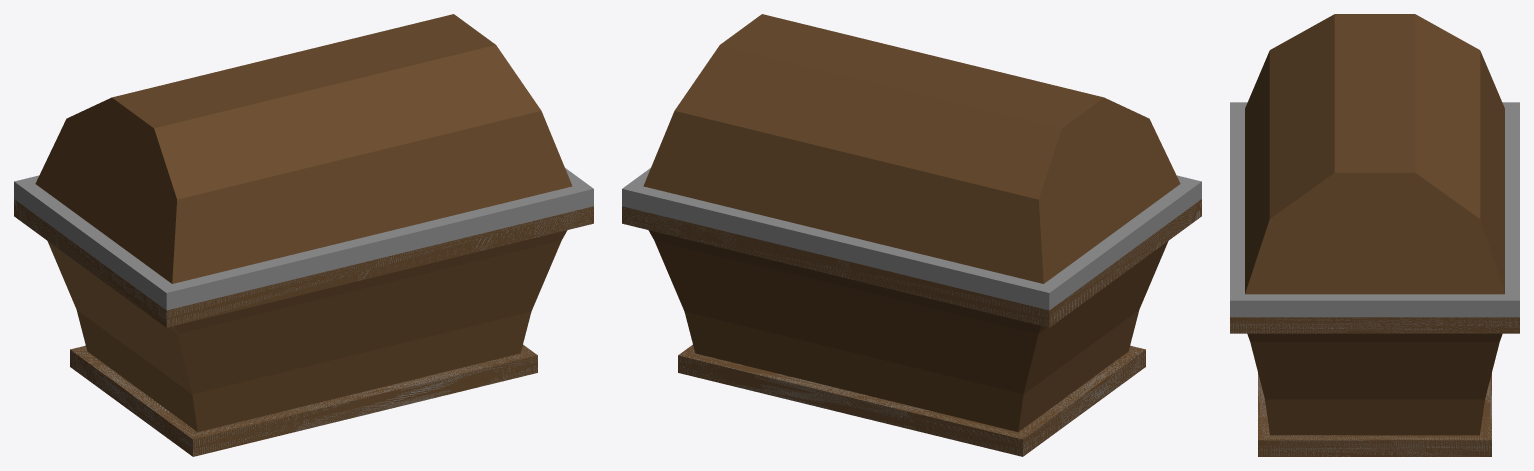
File: Dungeon_Chest_01.fbx
The picture shows the model from 3 angles, left to right: view 1: azimuth 30°, elevation 25°; view 2: azimuth 150°, elevation 25°; view 3: azimuth 270°, elevation 25°; orthographic projection. The views are drawn at different scales.
Parts seen in each view (by area): view 1: Group2, Group1; view 2: Group2, Group1; view 3: Group2, Group1.
Boxes of the visible parts, <box> form: Group2: <box>14,14,593,310</box>; Group1: <box>14,199,593,456</box>; Group2: <box>622,14,1201,310</box>; Group1: <box>622,199,1201,456</box>; Group2: <box>1230,14,1519,317</box>; Group1: <box>1230,317,1519,456</box>.
Size of the model in its own units: 141 by 94.26 by 87.21.
